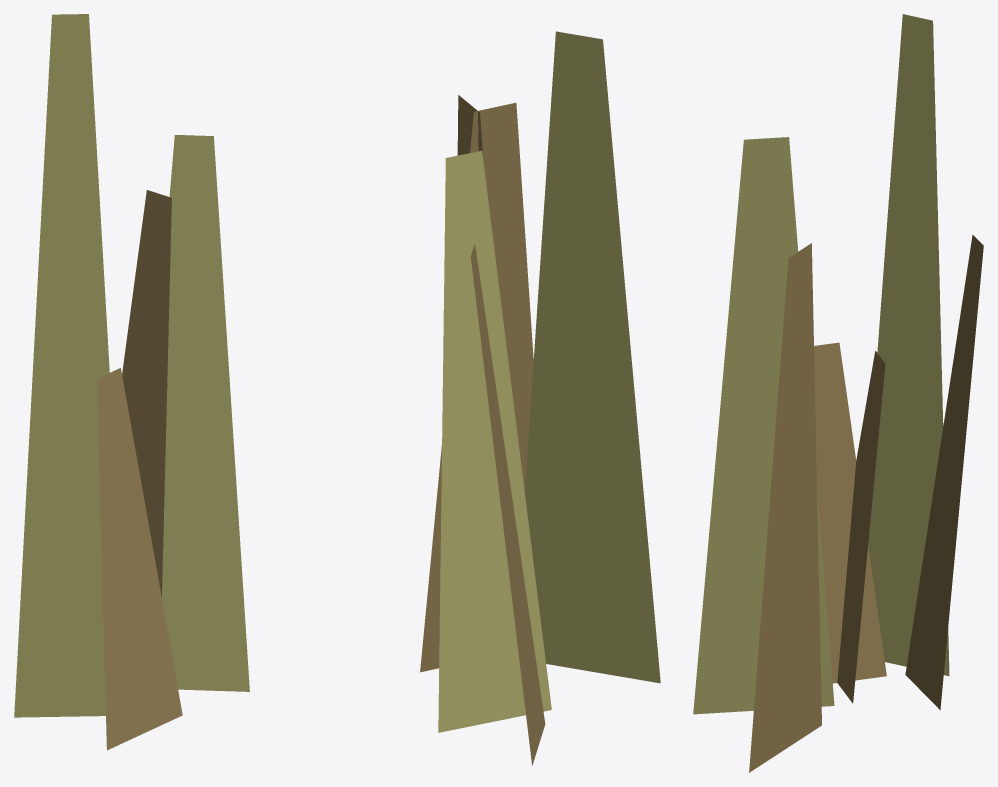
File: nong.mai@subadult__autumn.glb
3 views of the same model, side by side, from view 1: azimuth 30°, elevation 25°; view 2: azimuth 150°, elevation 25°; view 3: azimuth 270°, elevation 25° (orthographic). The views are drawn at different scales.
Parts seen in each view (by area): view 1: nong.mai@subadult__autumn; view 2: nong.mai@subadult__autumn; view 3: nong.mai@subadult__autumn.
Boxes of the visible parts, x1,y1,x2,y2 form: nong.mai@subadult__autumn: (14,14,249,750); nong.mai@subadult__autumn: (420,31,660,765); nong.mai@subadult__autumn: (693,14,983,772).
Bounding box in the file's own units: 0.2109 × 0.4917 × 0.2037.
